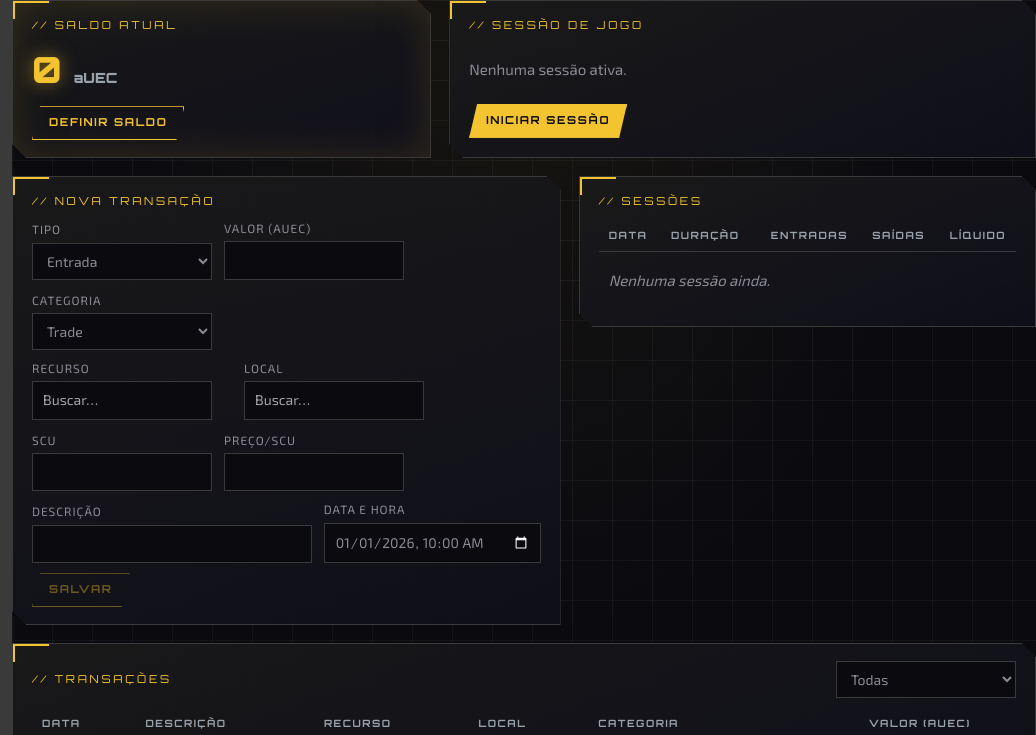
Scenario: correções do PROGRESSO › lançamento sem mexer na data usa a hora do salvamento
The image size is (1036, 735).
Expected: the button "Salvar" is shown, [32,573,130,607]
In the field labelled "Valor (aUEC)": (314, 261) [224,241,404,280], type "100"
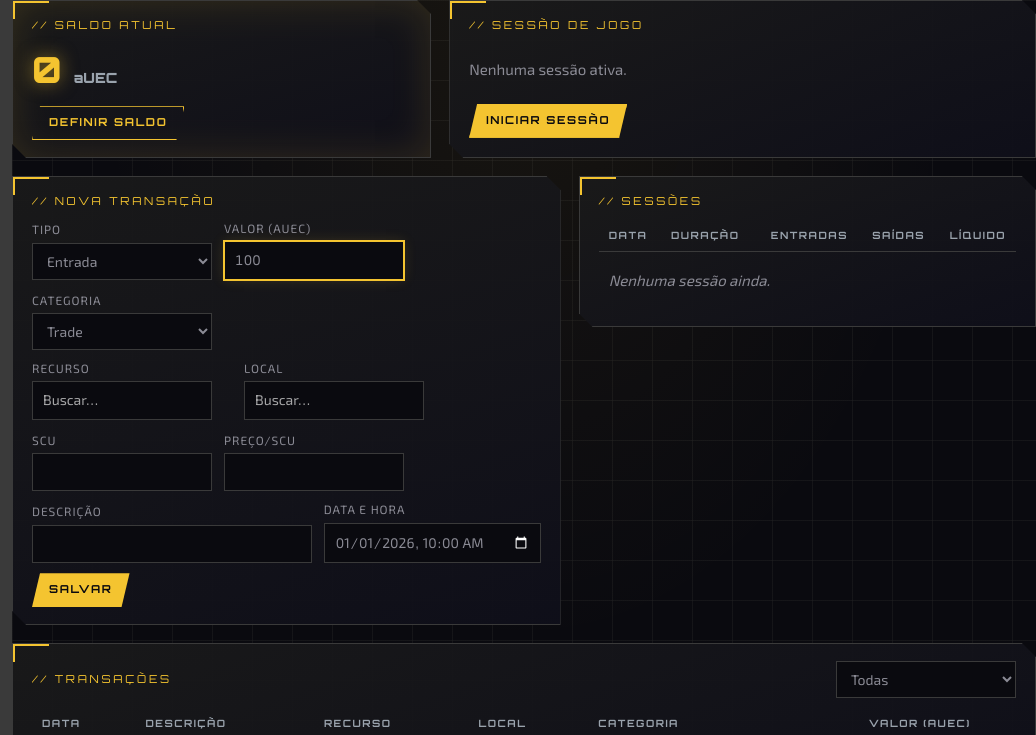
In the field labelled "Descrição": (172, 544) [32,525,312,563], type "Venda"
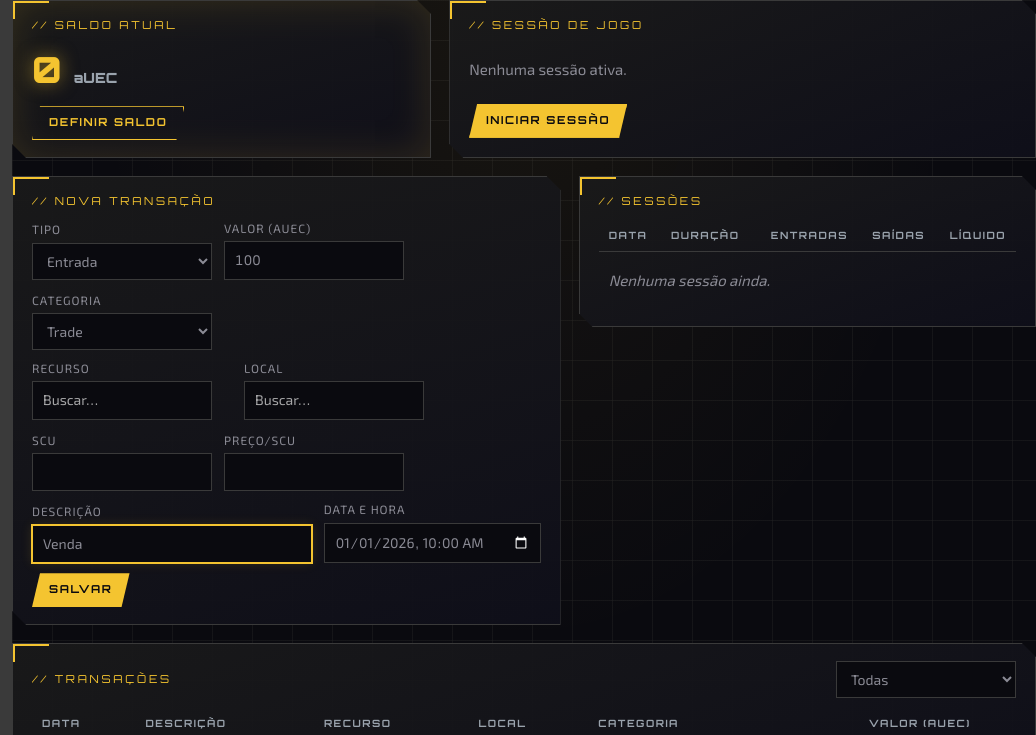
Click the button "Salvar": (81, 590) [32,573,130,607]
(page scrolled)
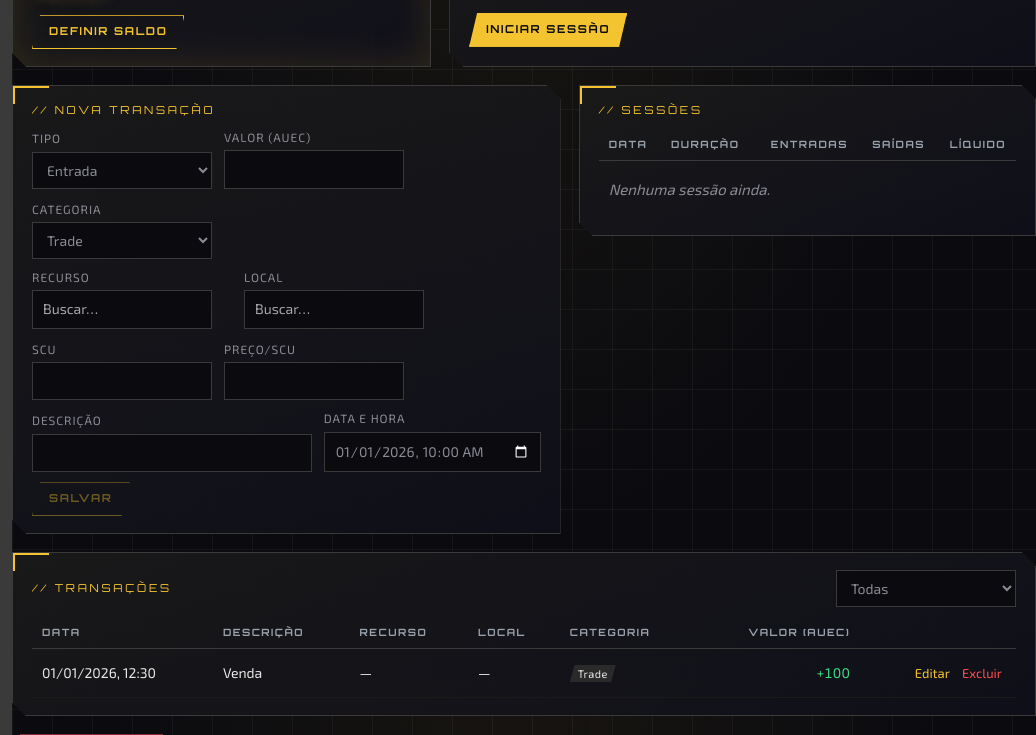
Now the row "01/01/2026, 12:30 Venda — — Trade +100 Editar Excluir" is shown, box [32,648,1016,698]
